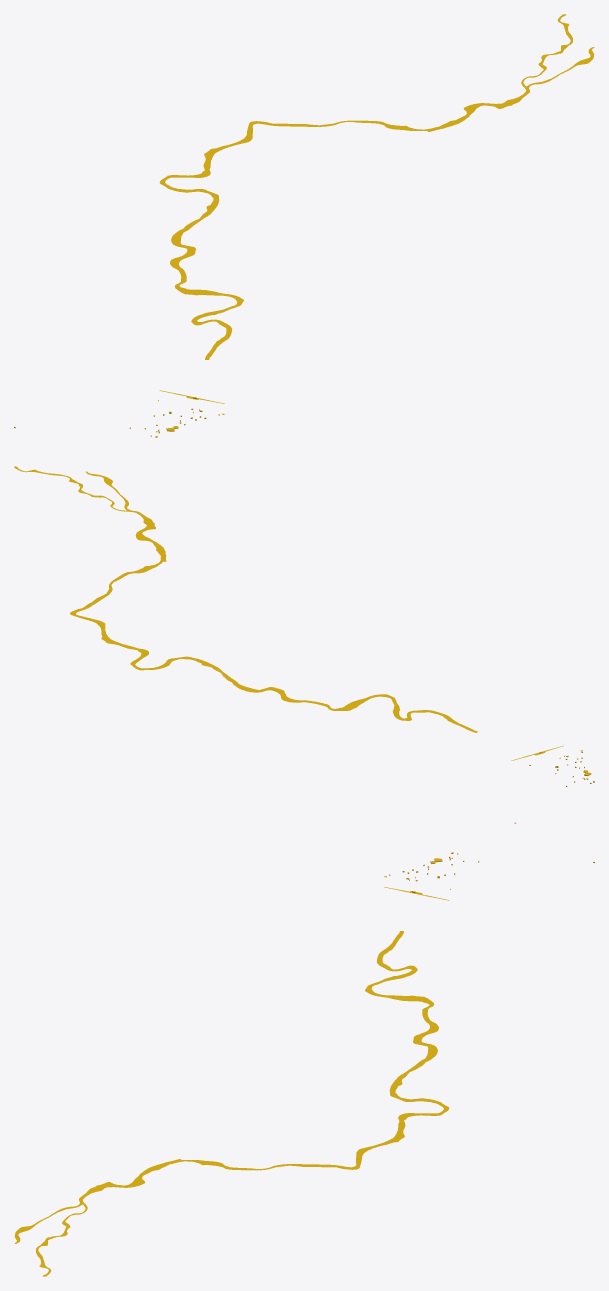
The model's file is sindhudurg.glb.
3 renders of one model, top to bottom at view 1: azimuth 90°, elevation 25°; view 2: azimuth 150°, elevation 25°; view 3: azimuth 270°, elevation 25°, orthographic. The views are drawn at different scales.
Visible parts, largest first — view 1: 302703097; view 2: 302703097; view 3: 302703097.
Boxes of the visible parts, x1=… form: 302703097: x1=14, y1=14, x2=594, y2=437; 302703097: x1=14, y1=466, x2=594, y2=823; 302703097: x1=14, y1=852, x2=594, y2=1276.
Bounding box in the file's own units: 0.9166 × 0.000986 × 0.5313.
